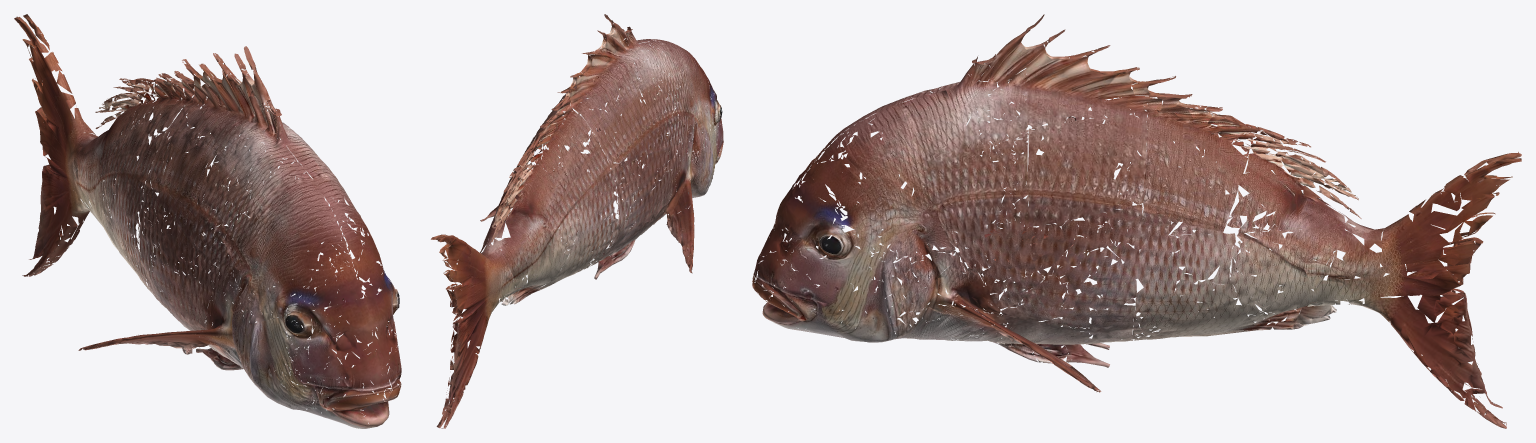
File: red_snapper.glb
3 views of the same model, side by side, from view 1: azimuth 30°, elevation 25°; view 2: azimuth 150°, elevation 25°; view 3: azimuth 270°, elevation 25° (orthographic). The views are drawn at different scales.
Parts seen in each view (by area): view 1: Object_4; view 2: Object_4; view 3: Object_4.
Part boxes in pixels (left/top/right/bottom): Object_4: left=14, top=14, right=401, bottom=428; Object_4: left=431, top=14, right=723, bottom=428; Object_4: left=752, top=14, right=1521, bottom=428.
Size of the model in its own units: 0.447 by 0.5907 by 0.9984.
1 material, 1 textured.
